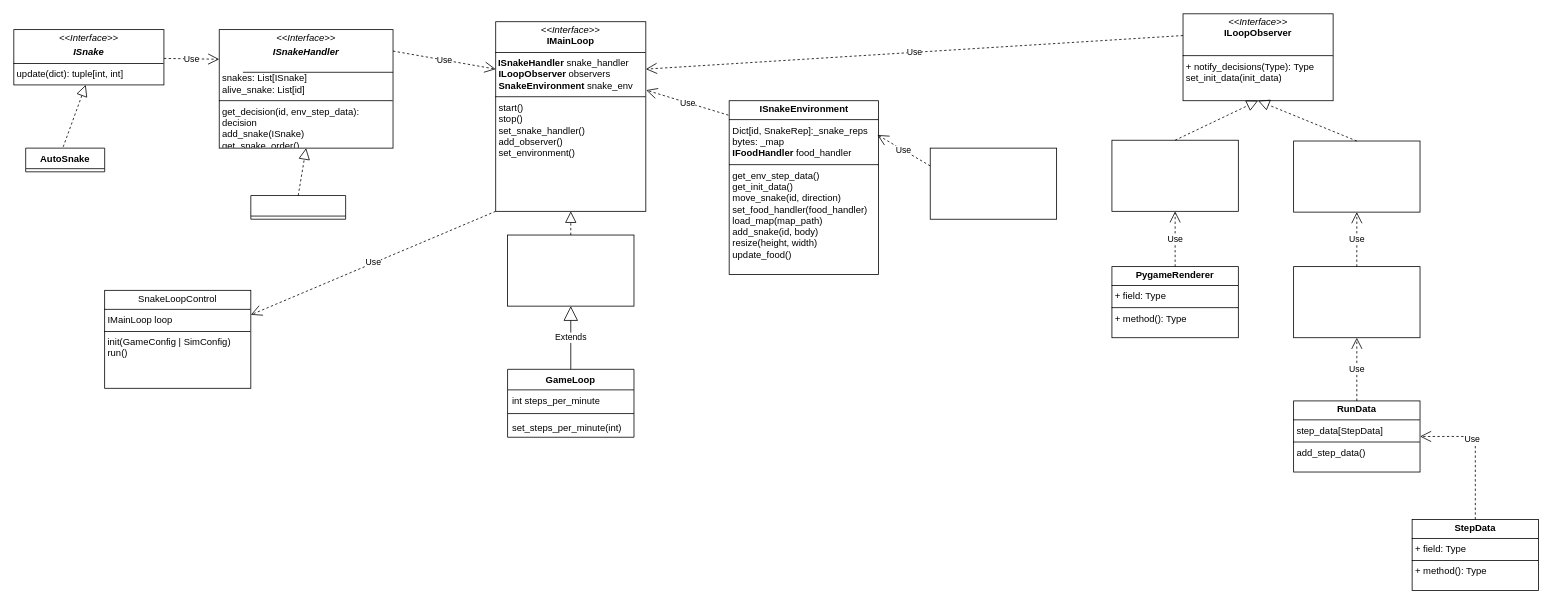
The diagram is 1552 pixels wide and 604 high, and some of its shapes have lost their labels. The centre of each missing label's shape, as x and y in pixels:
"RecordingObserver + field: Type + method(): Type" goes at (1356,176).
"Sim Loop + field: Type + method(): Type" goes at (570,270).
"SimRecorder RunData run_data + method(): Type" goes at (1356,302).
"SnakeHandler" goes at (298,207).
"SnakeRep List[tuple]: body move(direction)" goes at (993,183).
"StreamingObserver + field: Type + method(): Type" goes at (1174,175).
